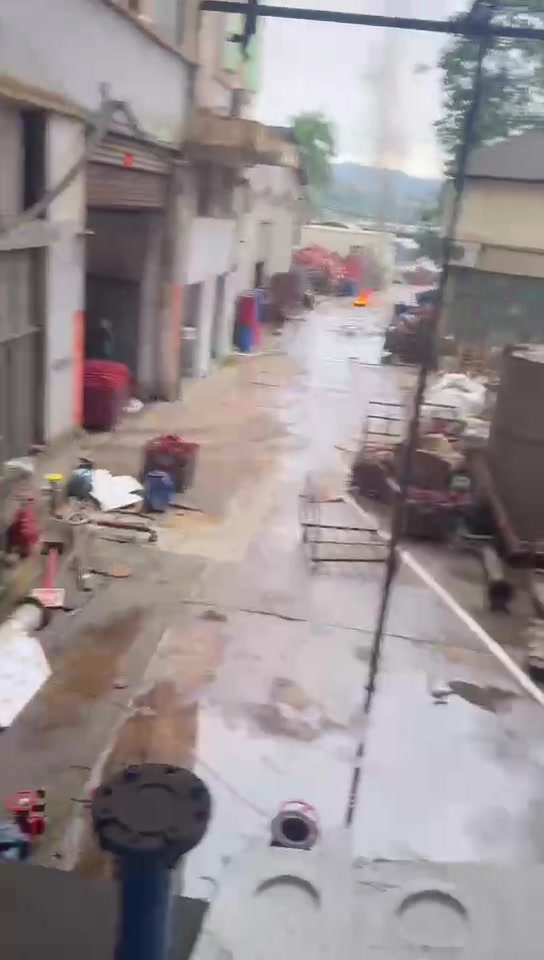fire: (354, 285, 370, 307)
